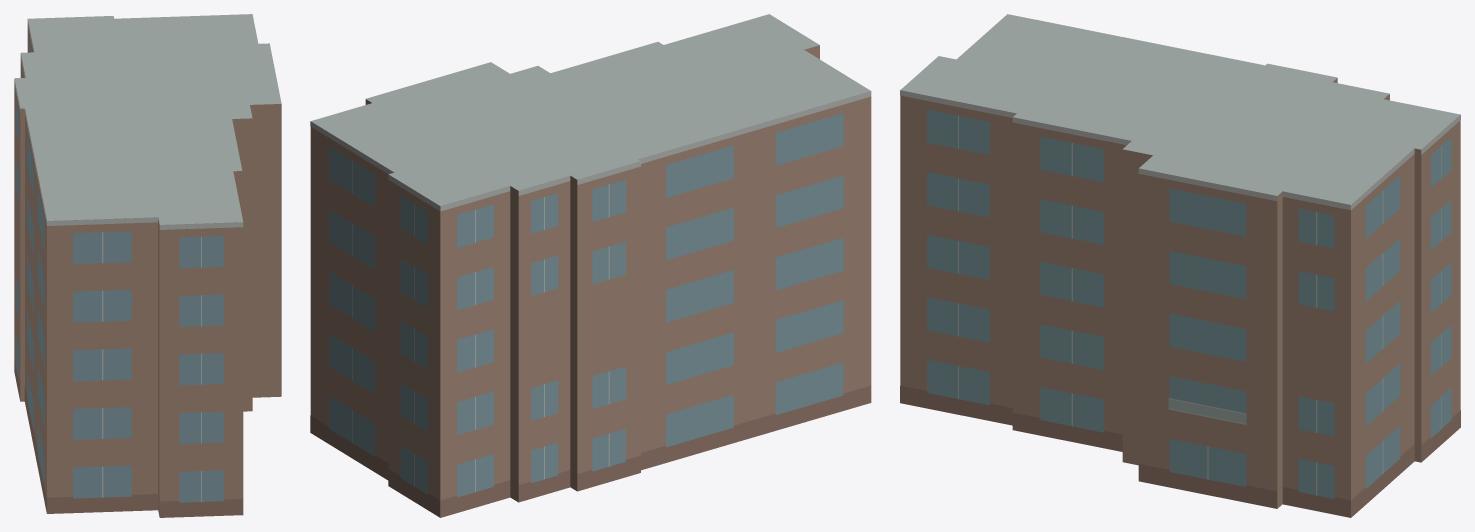
Rendered from survey-upis-32922881.glb.
3 renders of one model, left to right at view 1: azimuth 30°, elevation 25°; view 2: azimuth 150°, elevation 25°; view 3: azimuth 270°, elevation 25°, orthographic. The views are drawn at different scales.
Visible parts, largest first — view 1: survey-upis-32922881.tmp; view 2: survey-upis-32922881.tmp; view 3: survey-upis-32922881.tmp.
Part boxes in pixels (x1=…): survey-upis-32922881.tmp: x1=14, y1=14, x2=281, y2=517; survey-upis-32922881.tmp: x1=310, y1=14, x2=871, y2=517; survey-upis-32922881.tmp: x1=900, y1=14, x2=1460, y2=517.
Size of the model in its own units: 18.59 by 14.2 by 23.06.
